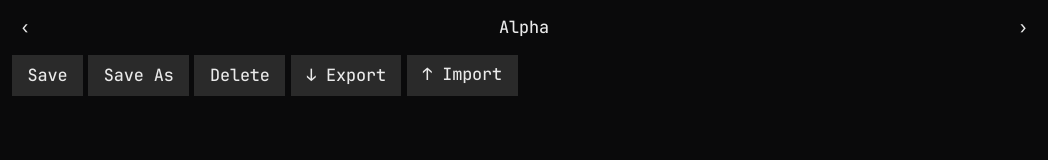
Test: Task DR-8.5: PresetStrip — chevron cycling › Prev chevron wraps from index 0 → last
Click the button named "Previous preset": (25, 27) x1=12 y1=14 x2=38 y2=40
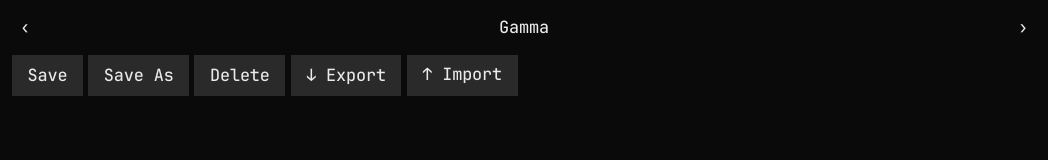
Expected: the field with test id "preset-name" holds "Gamma", x1=48 y1=10 x2=1000 y2=44
